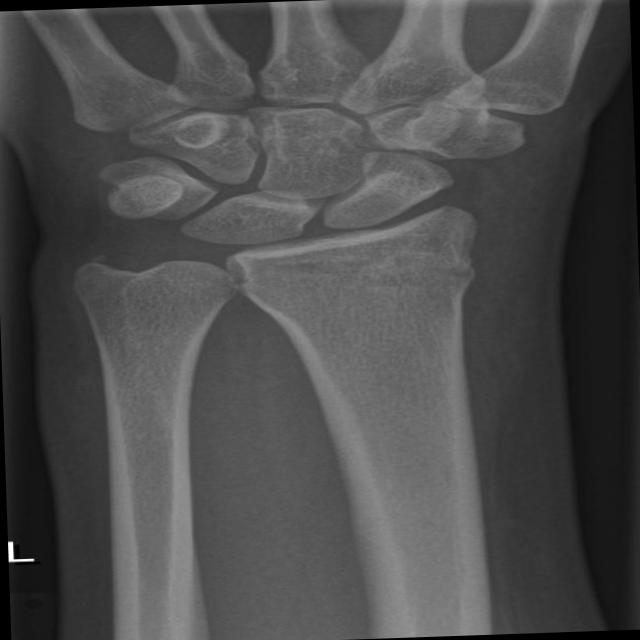fracture: (243, 243, 523, 300)
